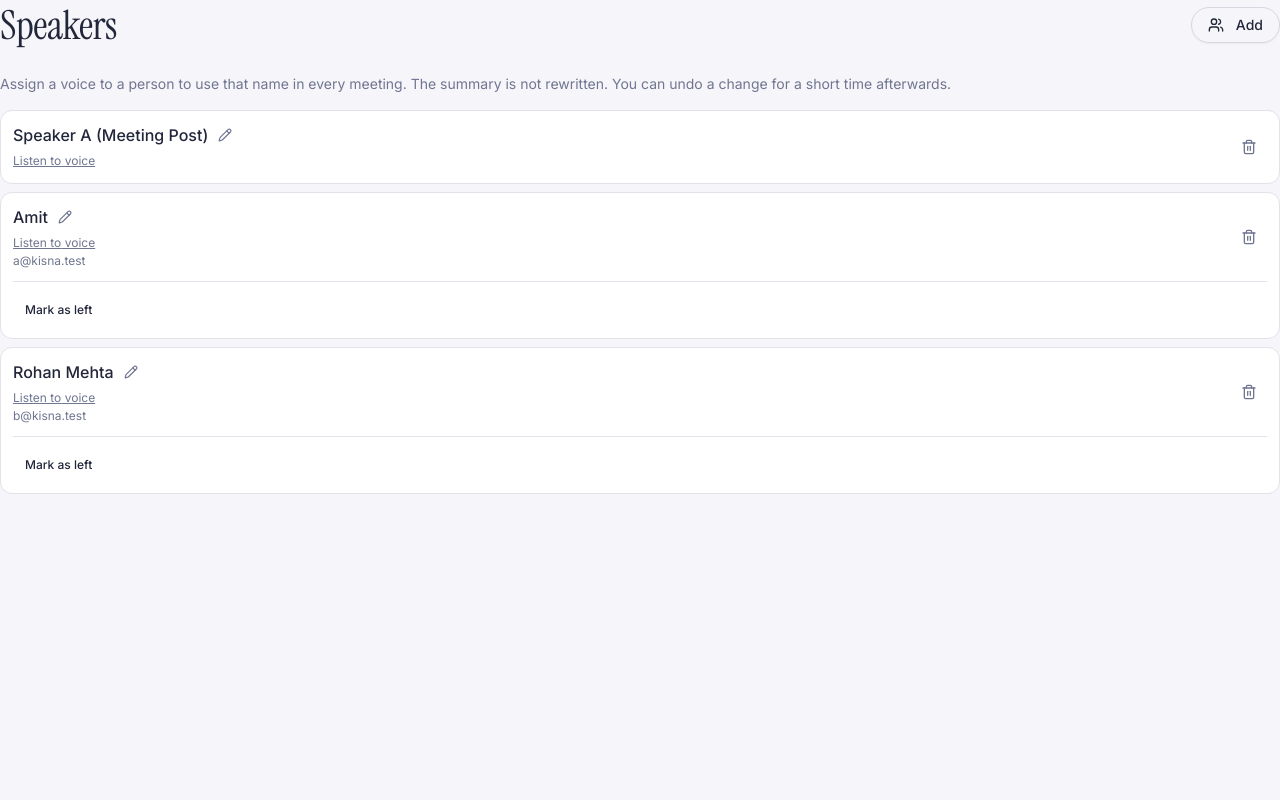
Speakers assign controls › filters by name, email and role as you type, and says when no one matches
Expected: the text "Speaker A (Meeting Post)" is shown, [13, 123, 208, 147]
Click the button named "Assign Speaker A (Meeting Post) to a person": [225, 135] box [214, 124, 236, 146]
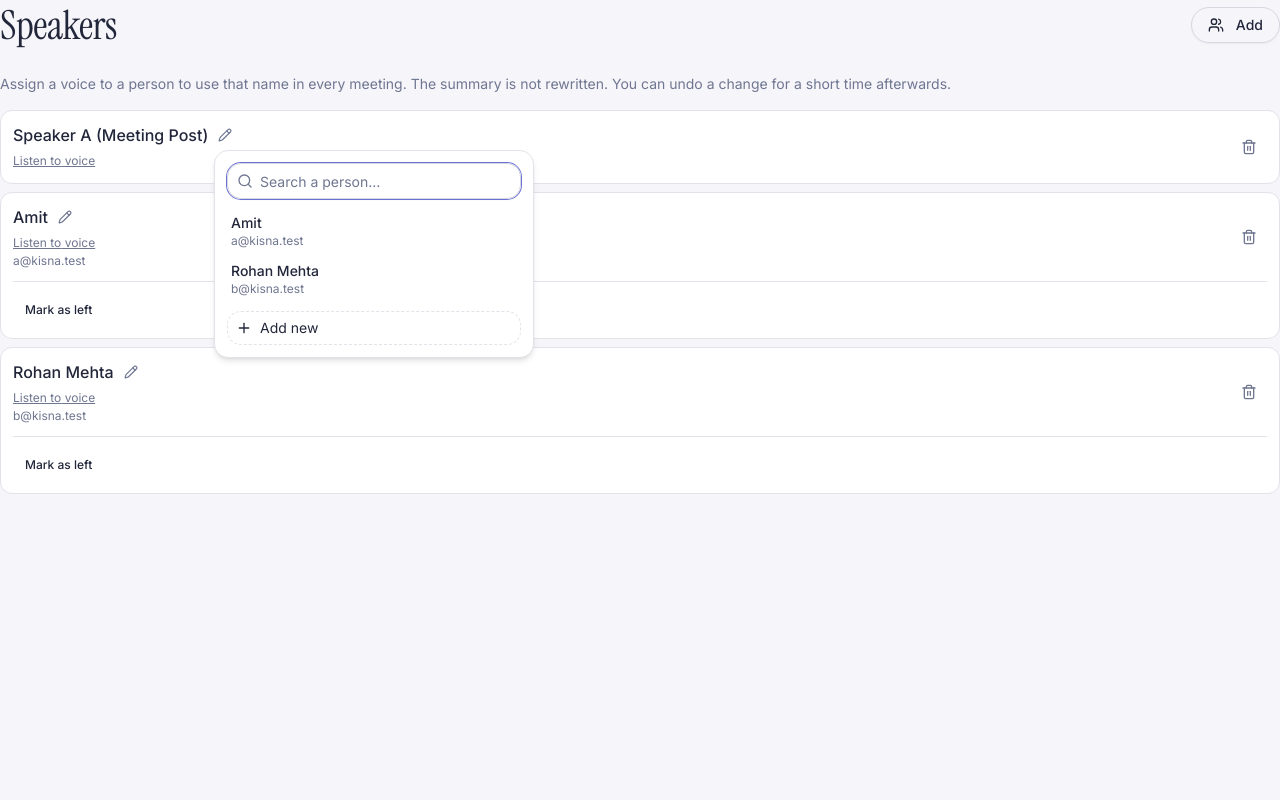
In the field with placeholder "Search a person…": [374, 181] box [227, 163, 521, 199], type "roh"
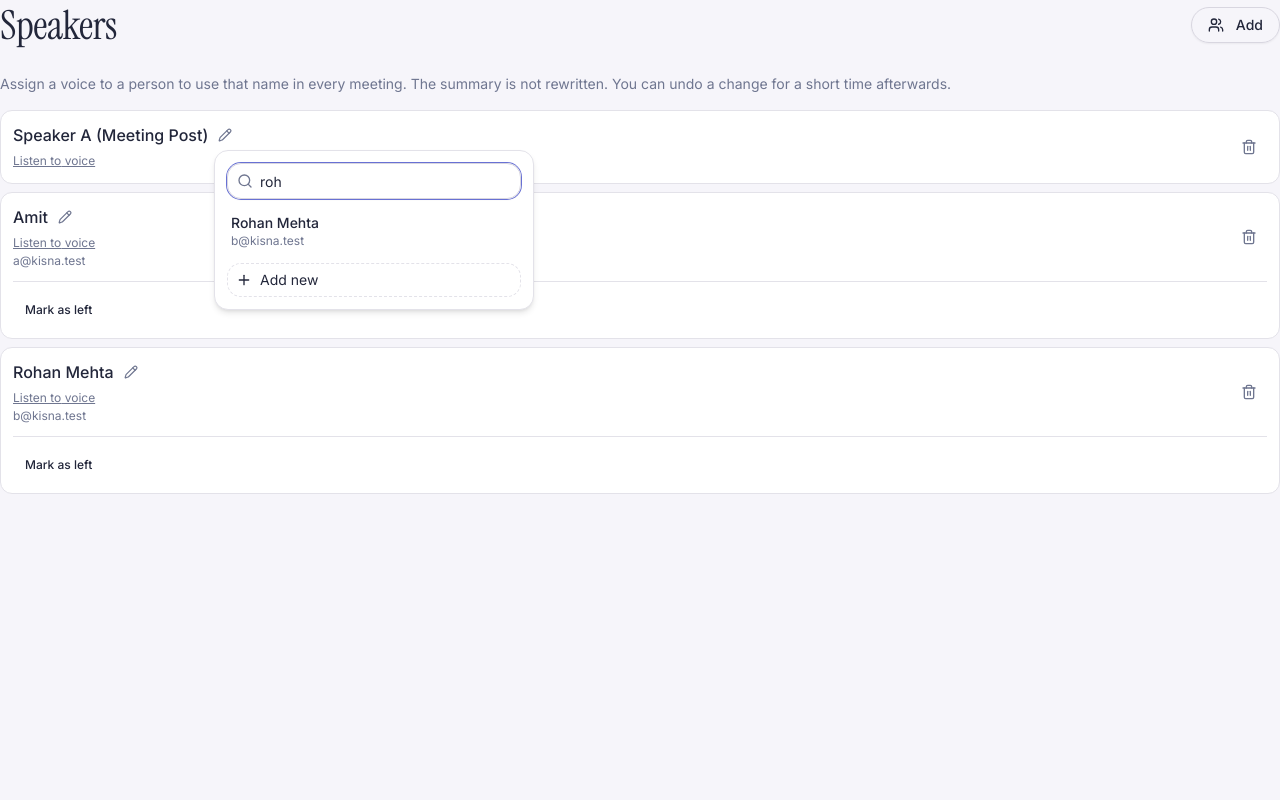
Replace the text in the field with placeholder "Search a person…" with "A@KISNA": [374, 181] box [227, 163, 521, 199]
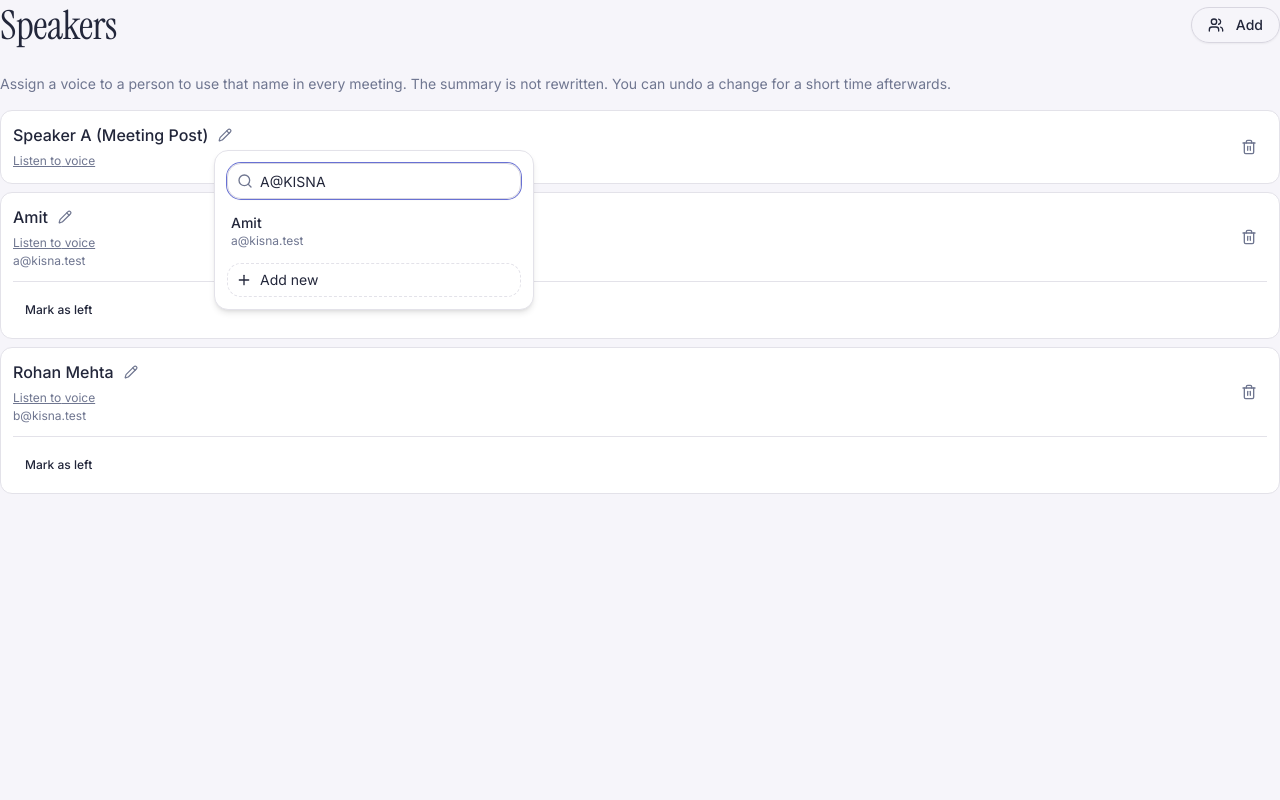
Replace the text in the field with placeholder "Search a person…" with "sales": [374, 181] box [227, 163, 521, 199]
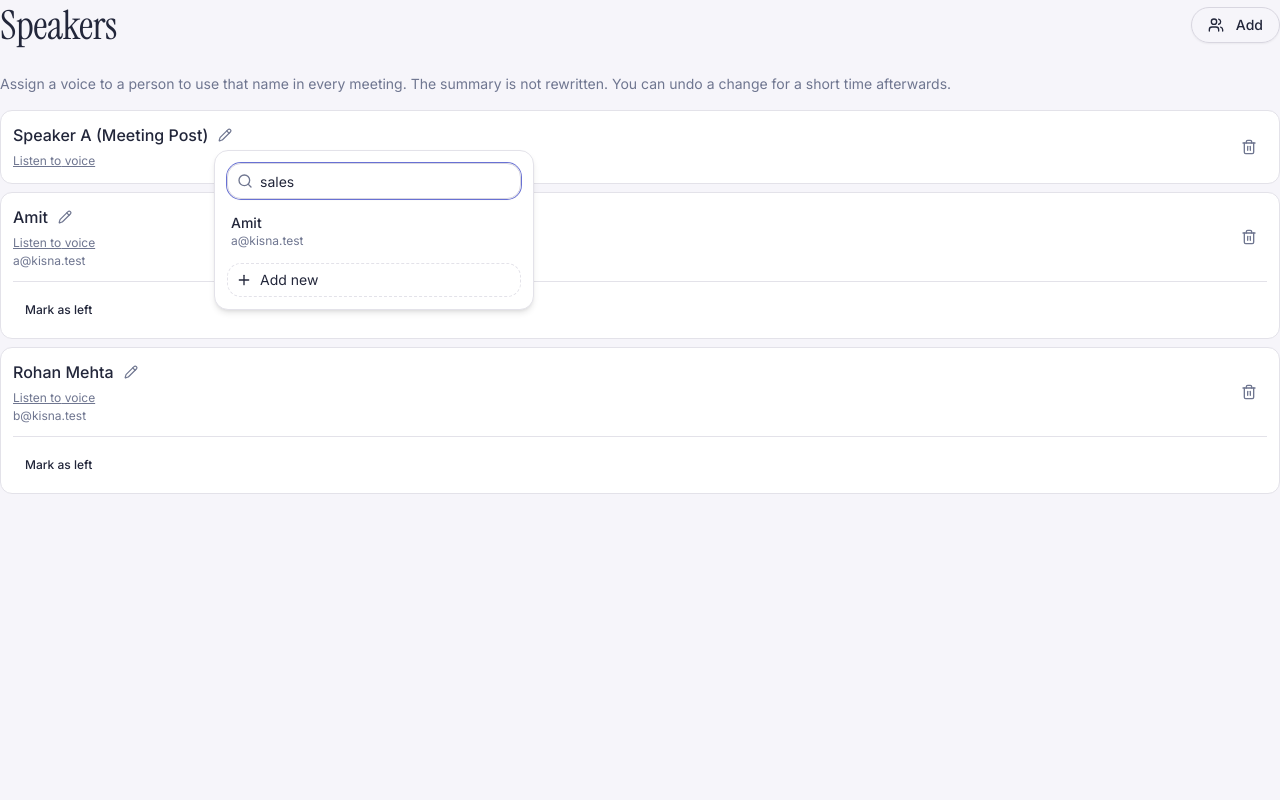
Replace the text in the field with placeholder "Search a person…" with "zzz": [374, 181] box [227, 163, 521, 199]
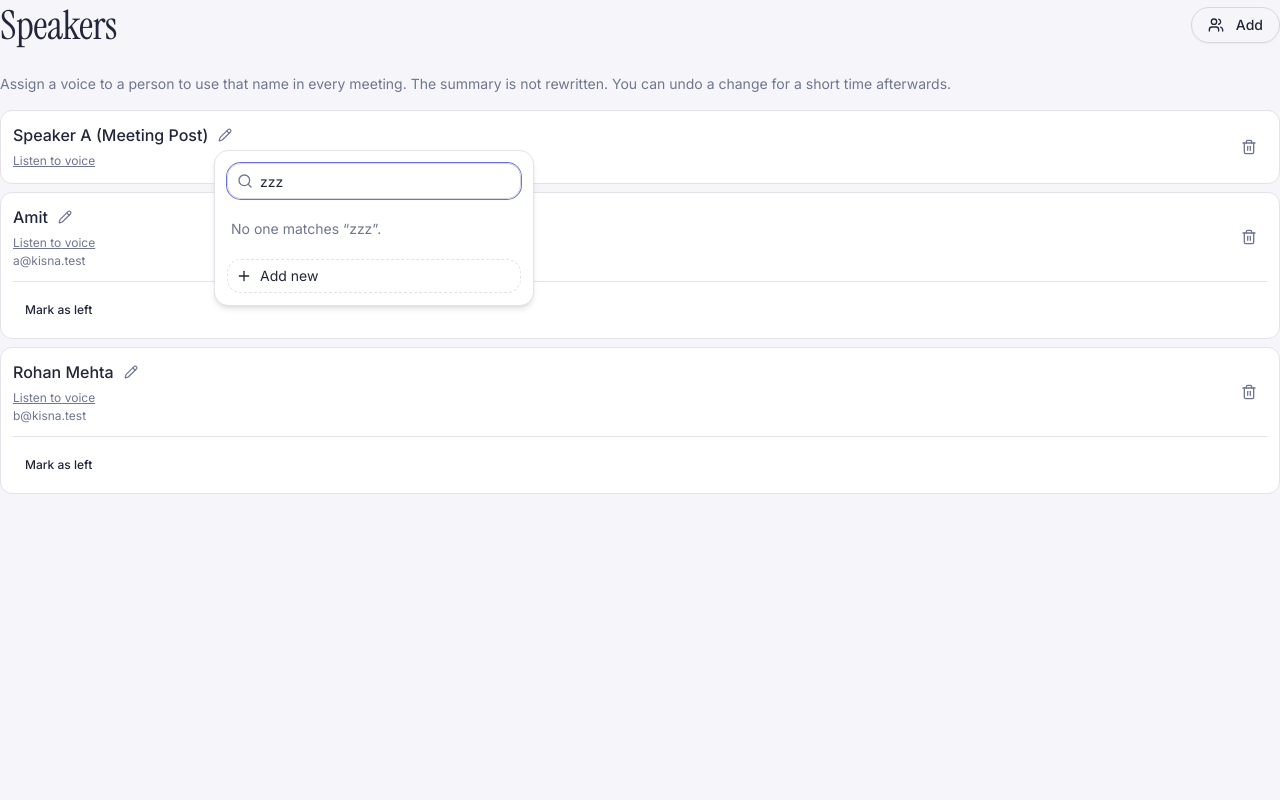
Now no options are shown
Now the text "No one matches “zzz”." is shown, box [231, 220, 381, 237]
